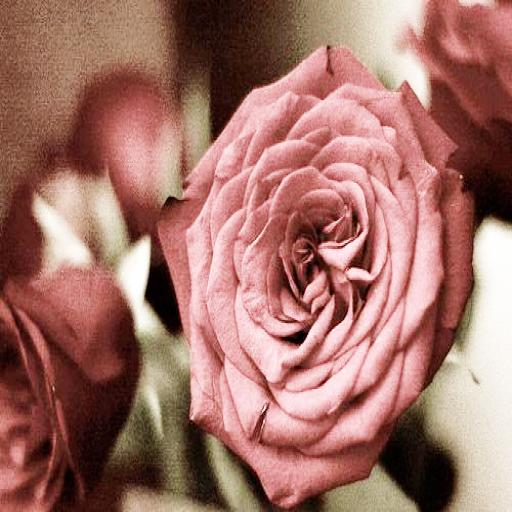rose: (160, 38, 483, 506)
